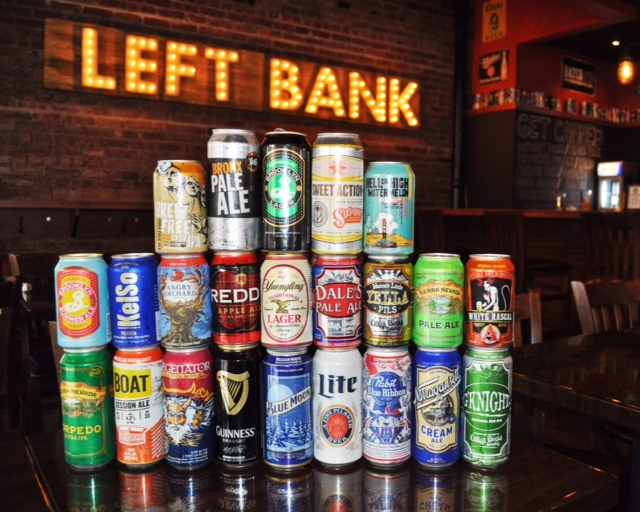beer can: (307, 131, 367, 259), (53, 347, 115, 470), (204, 127, 261, 252), (208, 346, 264, 473), (256, 131, 312, 256), (110, 348, 166, 473), (311, 343, 365, 472), (463, 352, 516, 471), (164, 346, 214, 471), (413, 348, 463, 472), (262, 348, 312, 471), (363, 352, 414, 472), (305, 259, 368, 351), (151, 157, 209, 255), (256, 256, 315, 352), (107, 251, 163, 350), (363, 159, 417, 261), (154, 256, 215, 346), (466, 250, 517, 356), (57, 253, 112, 350), (415, 252, 462, 355), (360, 260, 413, 351), (208, 257, 261, 347)
